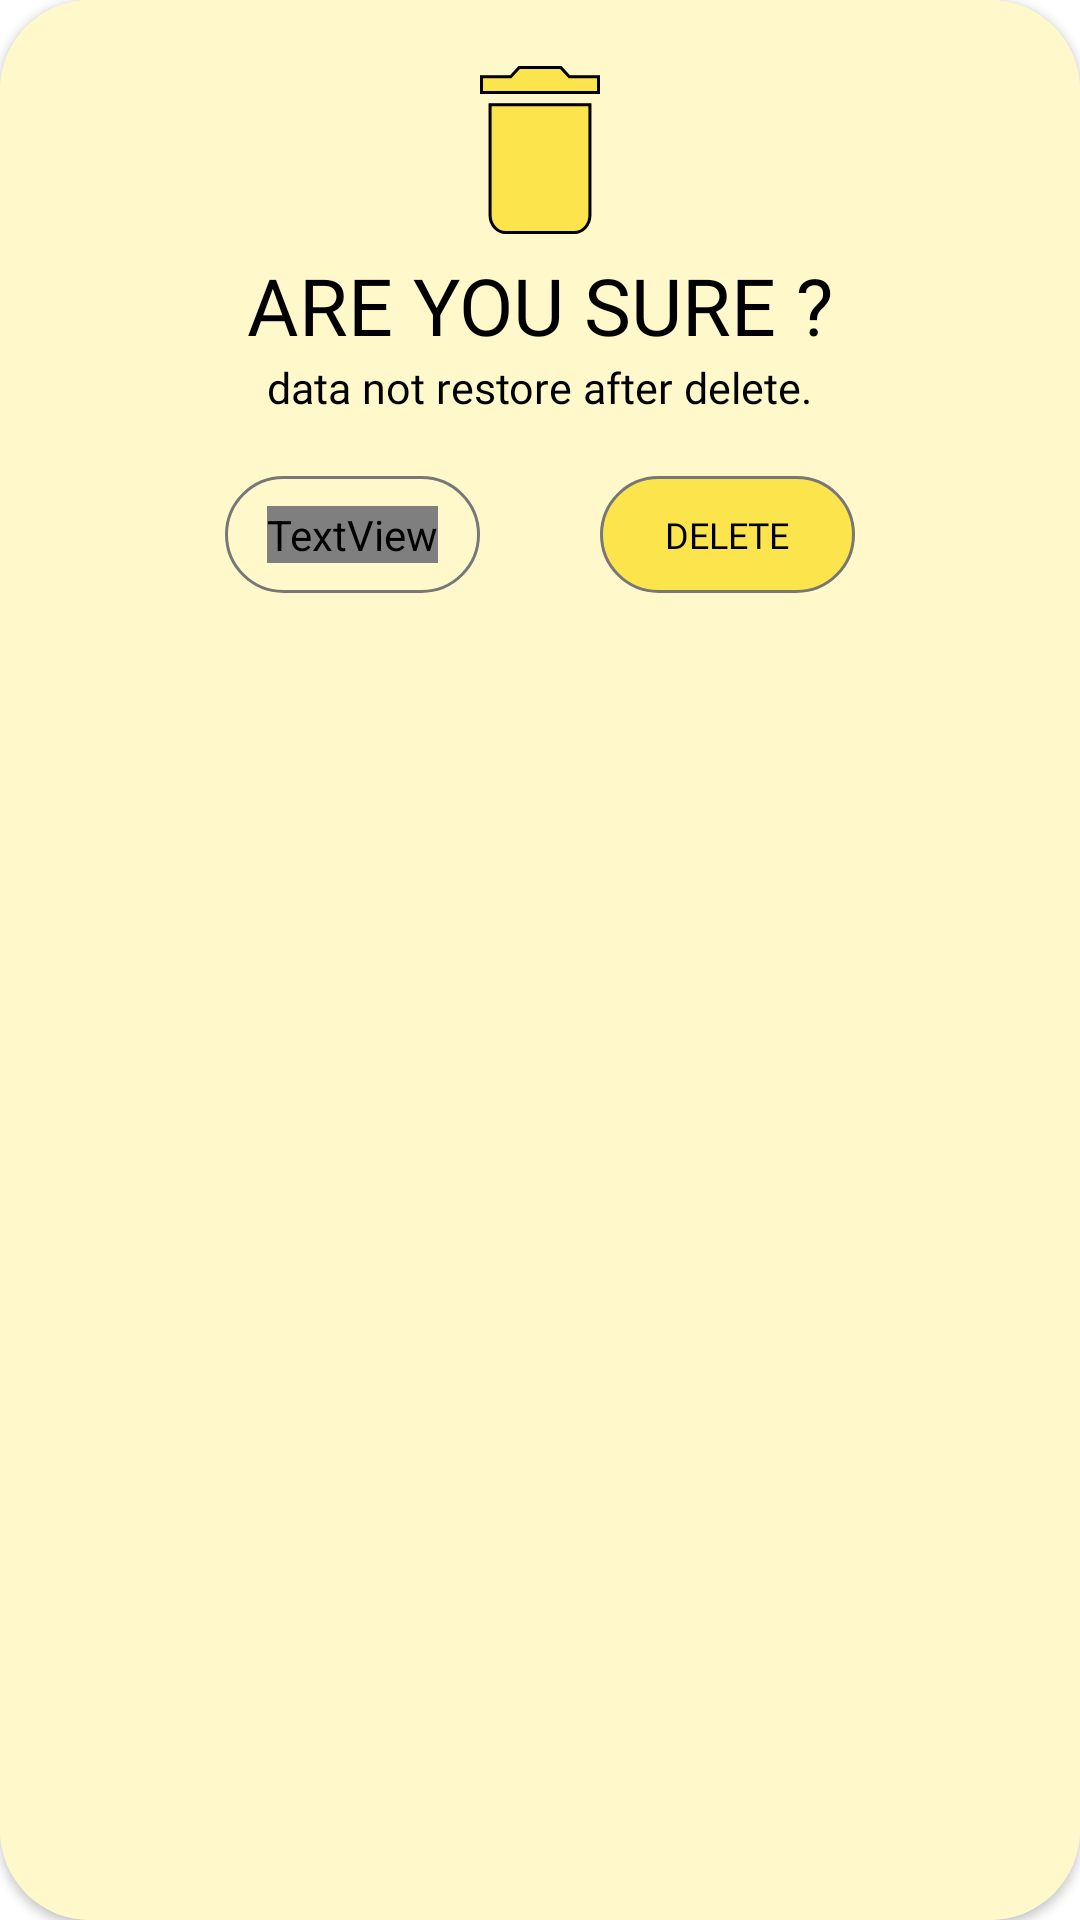

Named icons in this screenshot (1080*1920) and their bounding boxes, box=[x1, y1, x2, y2]:
delet show: box=[480, 66, 600, 234]
